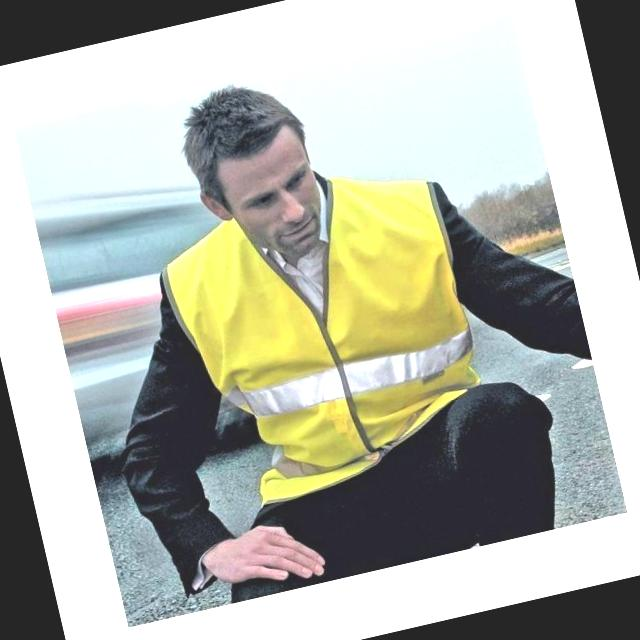vest: (160, 159, 504, 500)
